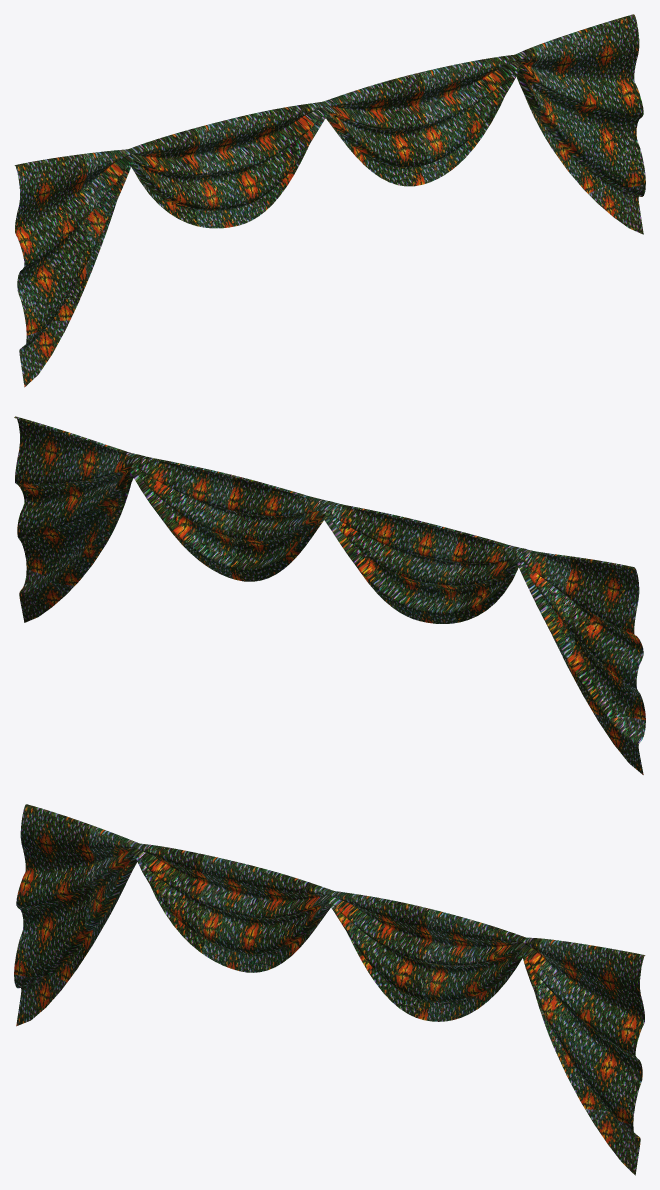
3 renders of one model, top to bottom at view 1: azimuth 30°, elevation 25°; view 2: azimuth 150°, elevation 25°; view 3: azimuth 330°, elevation 25°, orthographic.
Parts seen in each view (by area): view 1: Loft09; view 2: Loft09; view 3: Loft09.
Boxes of the visible parts, x1,y1,x2,y2 form: Loft09: [14, 14, 645, 387]; Loft09: [14, 416, 645, 774]; Loft09: [14, 804, 645, 1175].
Size of the model in its own units: 1789 by 594 by 75.8.
1 material, 1 textured.
